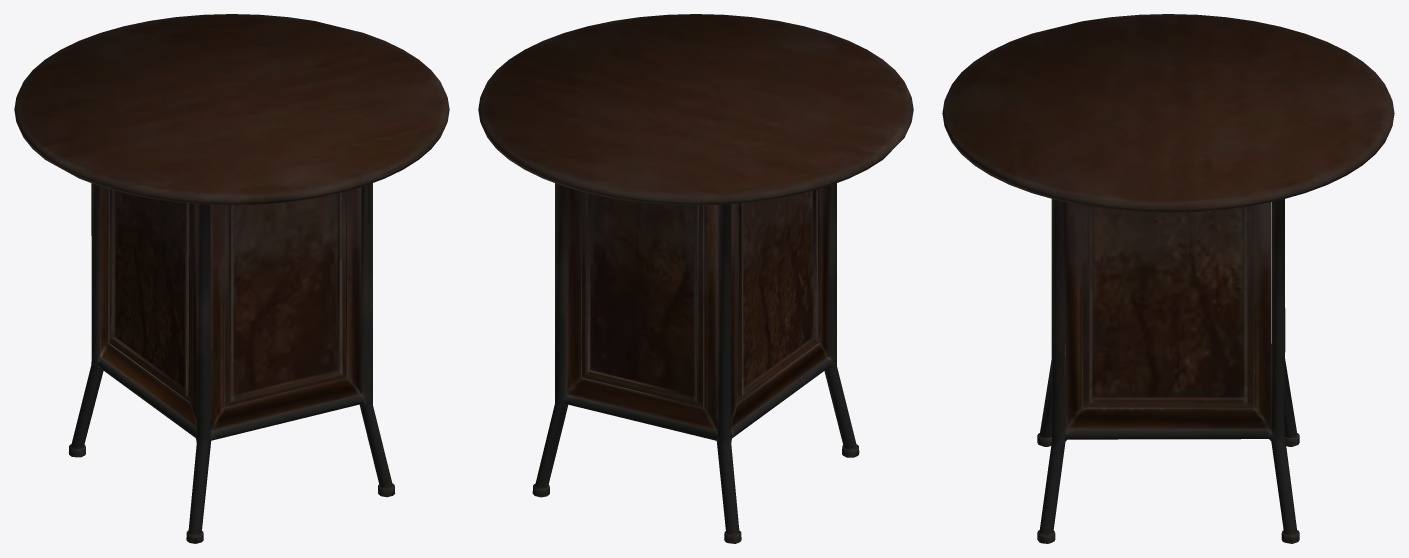
Rendered from round_wooden_table_02.glb.
3 renders of one model, left to right at view 1: azimuth 30°, elevation 25°; view 2: azimuth 150°, elevation 25°; view 3: azimuth 270°, elevation 25°, orthographic. The views are drawn at different scales.
Visible parts, largest first — view 1: round_wooden_table_02; view 2: round_wooden_table_02; view 3: round_wooden_table_02.
Boxes of the visible parts, box(x1,y1,x2,y2) form: round_wooden_table_02: box(14, 14, 449, 543); round_wooden_table_02: box(478, 14, 913, 543); round_wooden_table_02: box(942, 14, 1394, 543).
Bounding box in the file's own units: 0.7962 × 0.7451 × 0.7962.
Materials: 1 (1 with a texture image).
